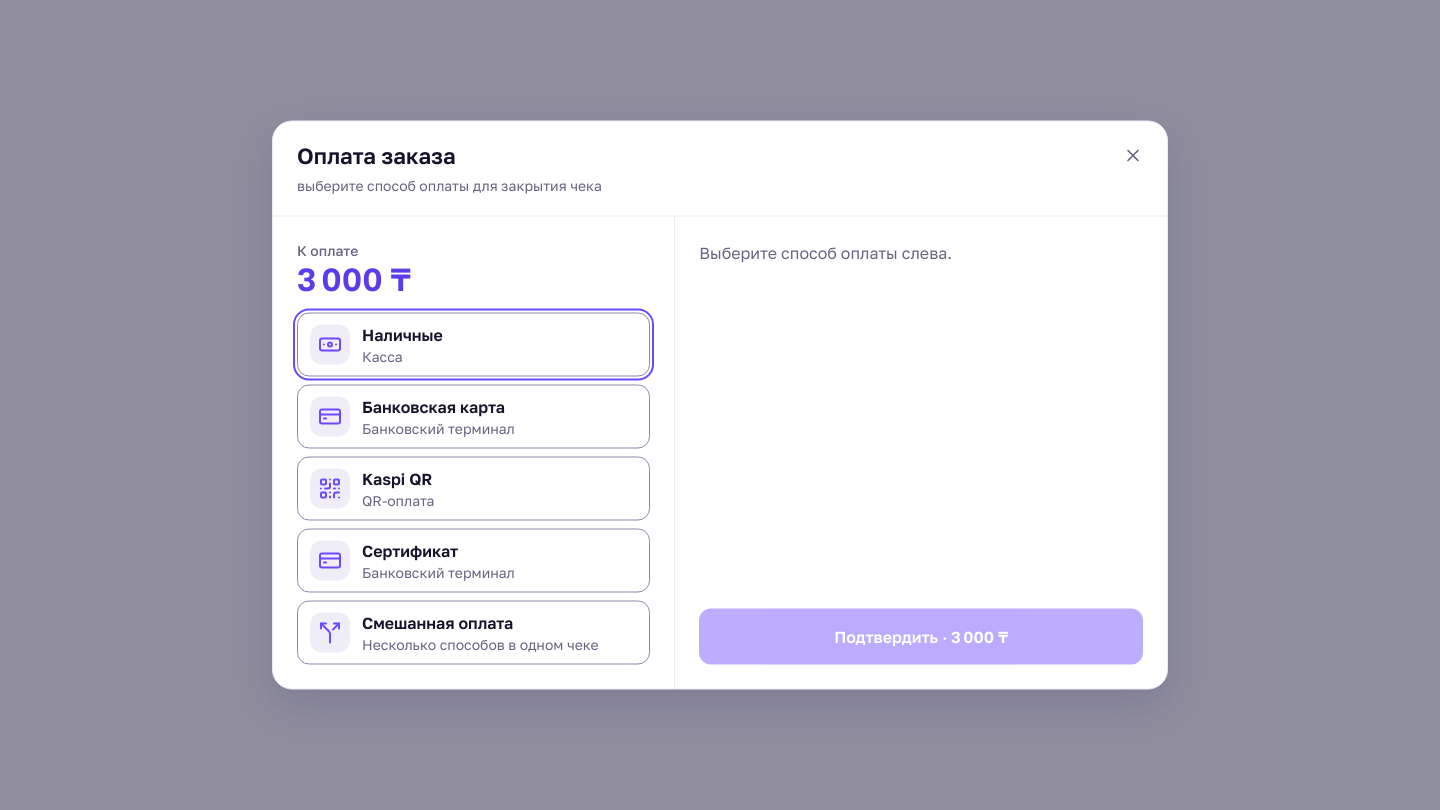
Test: payment dialog from the directory (W1-POS-17) › keeps a non-combinable type out of the mixed payment
The image size is (1440, 810).
Click the radio button labelled "Смешанная оплата Несколько способов в одном чеке".
click(474, 632)  # box [297,600,650,664]
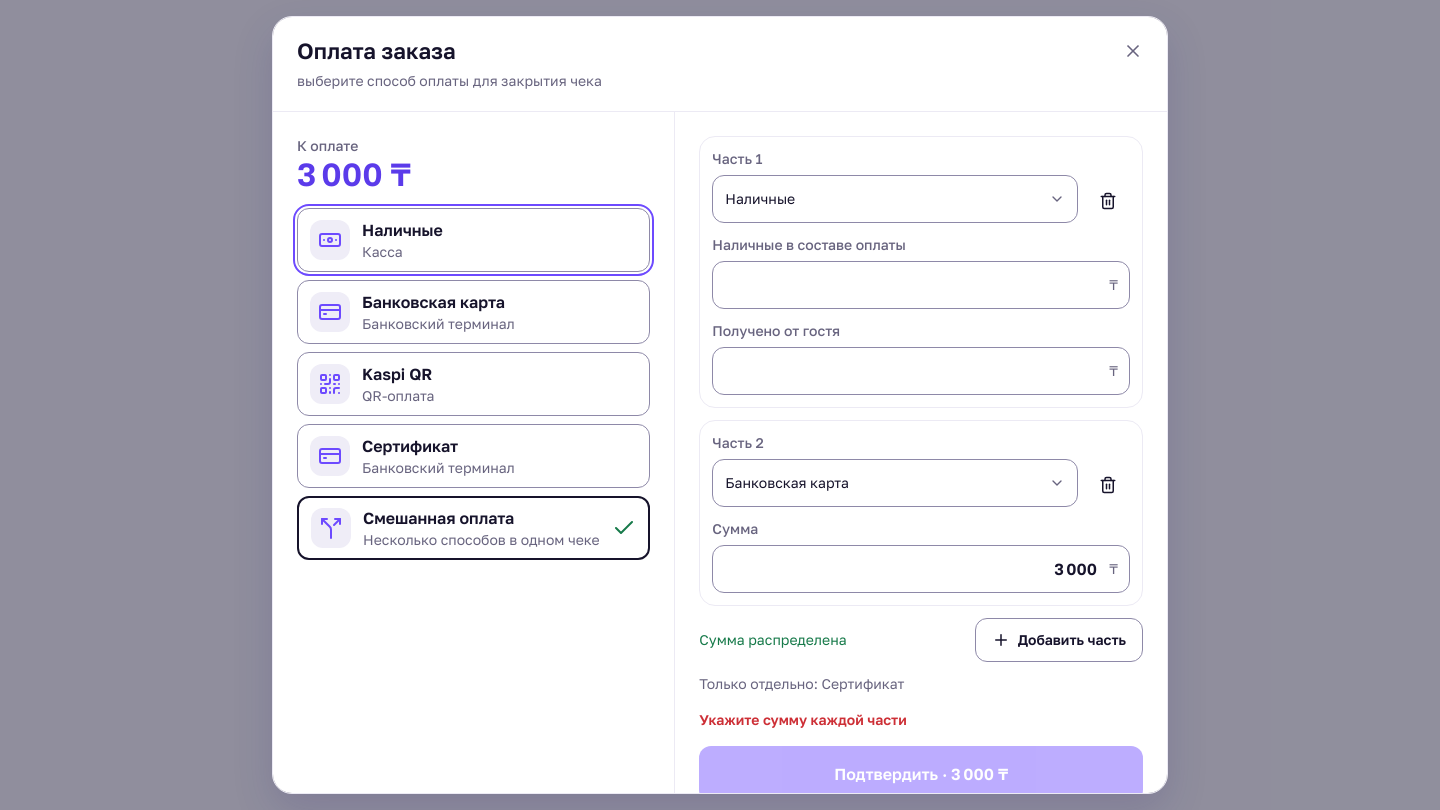
Check: the text "Только отдельно: Сертификат" is shown, box [699,675,904,692]
Check: the dropdown labelled "Наличные" is shown, box [712,175,1078,223]
